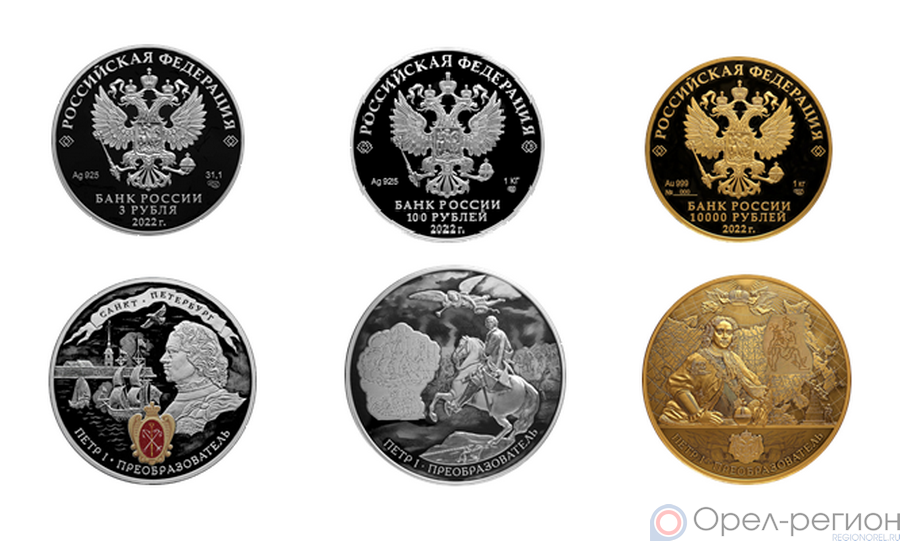coin: (342, 268, 569, 485), (642, 271, 854, 485), (48, 277, 258, 487), (347, 48, 548, 243), (50, 45, 245, 235), (644, 57, 834, 243)
